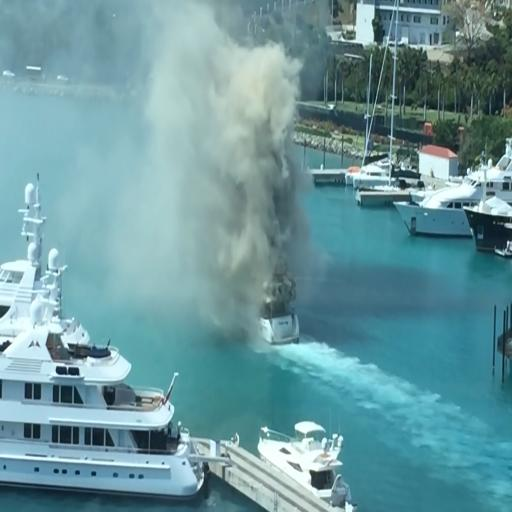smoke: (197, 12, 291, 269)
